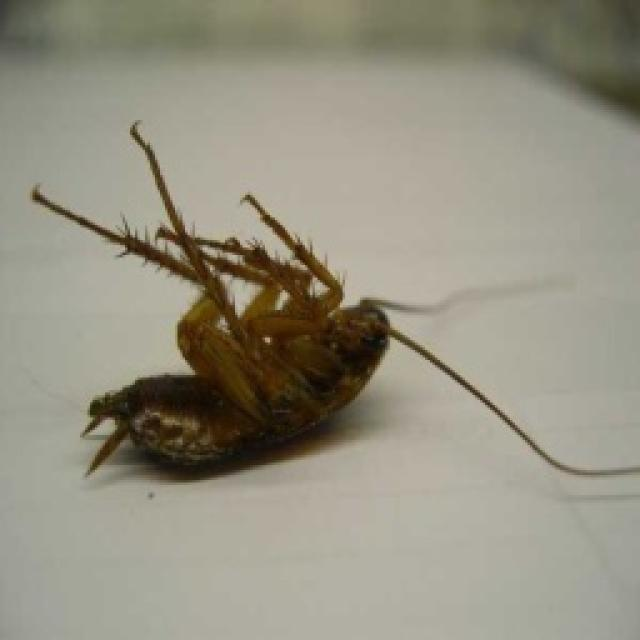cockroach: (26, 117, 637, 488)
